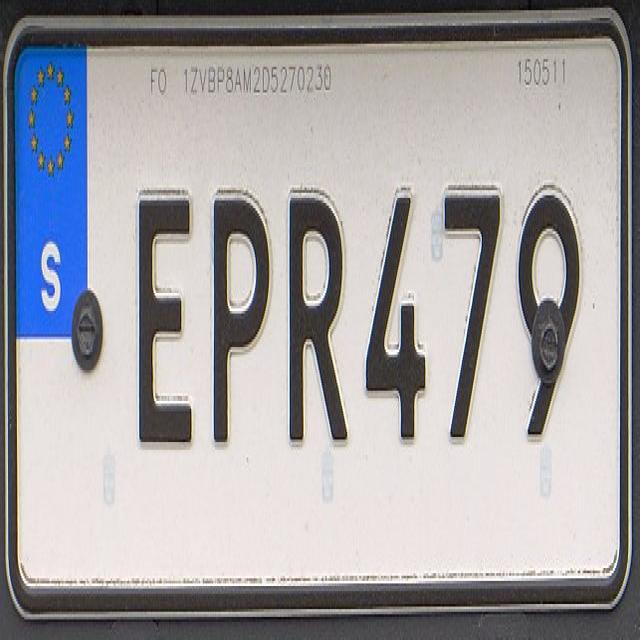placa: (118, 152, 608, 488)
